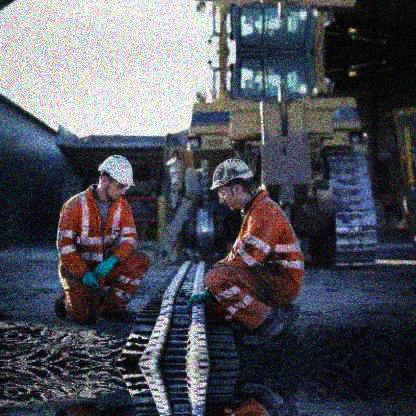helmet: (209, 157, 255, 212), (97, 156, 135, 205)
